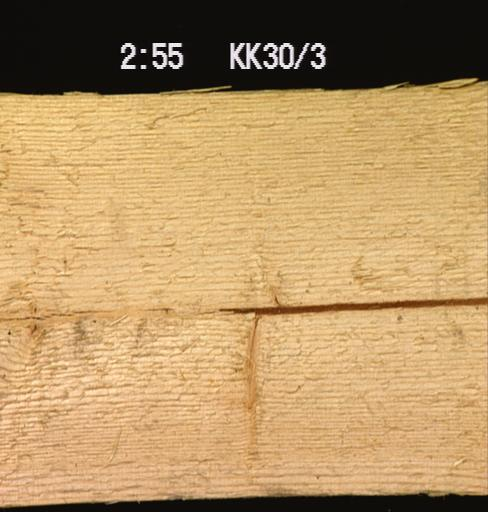split: (1, 297, 242, 324)
